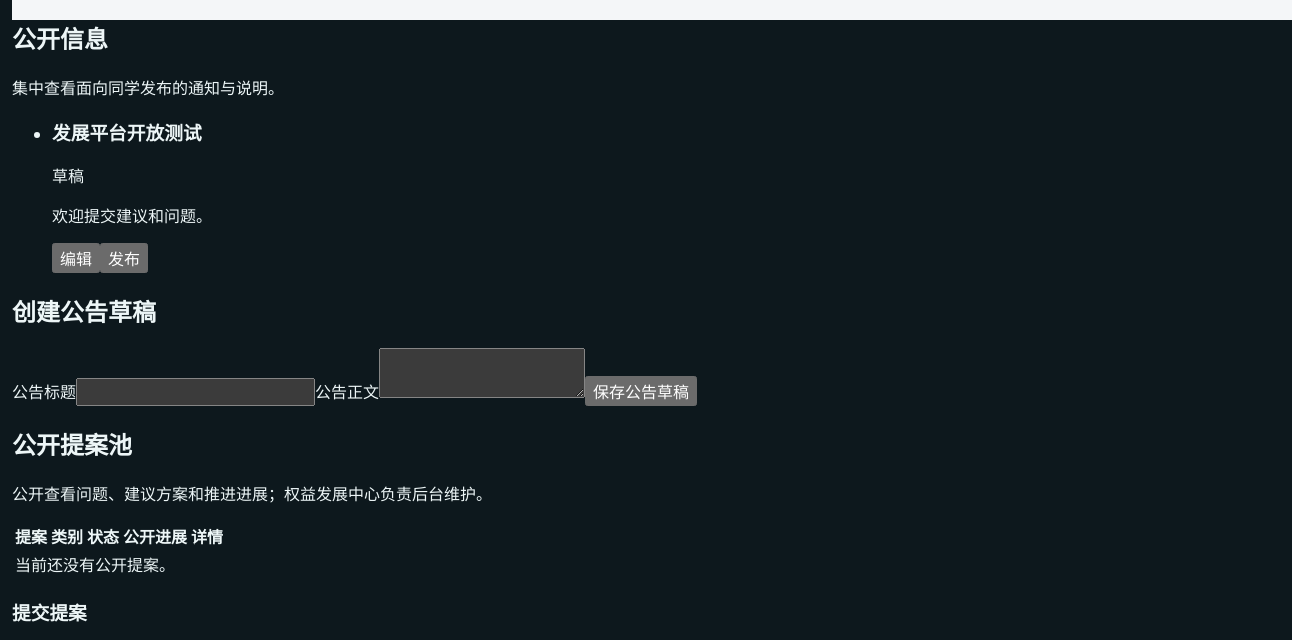
InformationPage › preserves server-confirmed state when a transition fails
Expected: the text "草稿" is shown, [52, 165, 84, 187]
Click the button "发布" at (124, 258), box [100, 243, 148, 273]
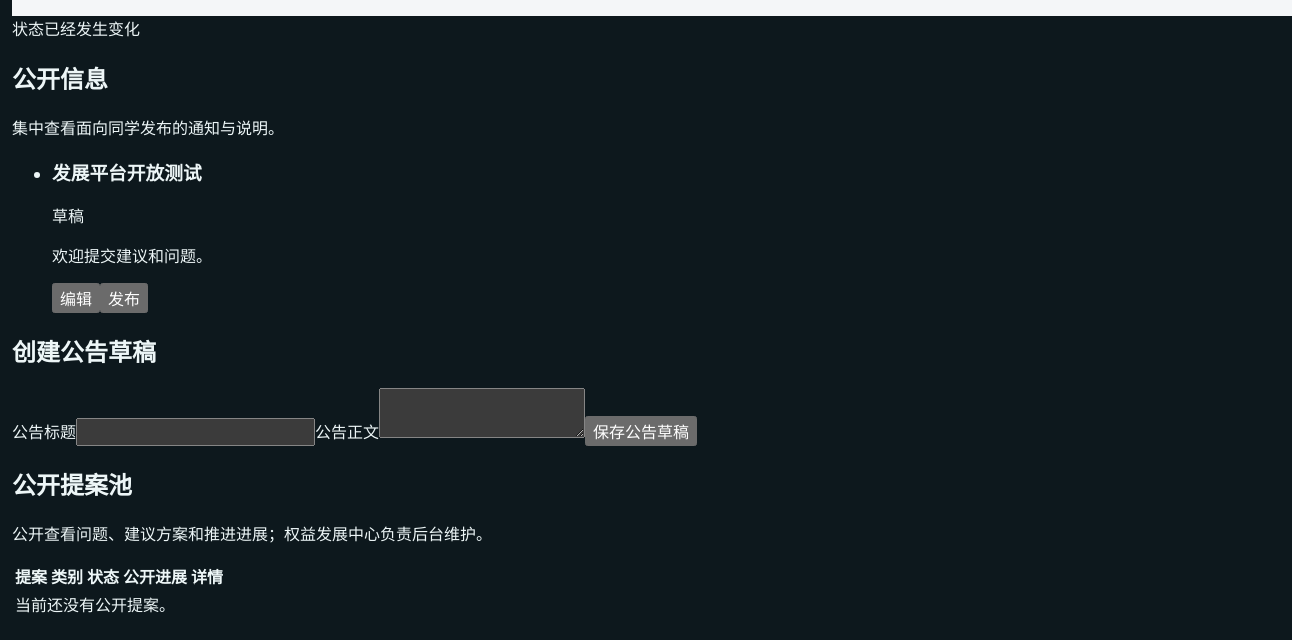
Expected: the text "草稿" is shown, [52, 205, 84, 227]
Now the message reads "状态已经发生变化", box [12, 18, 140, 40]
